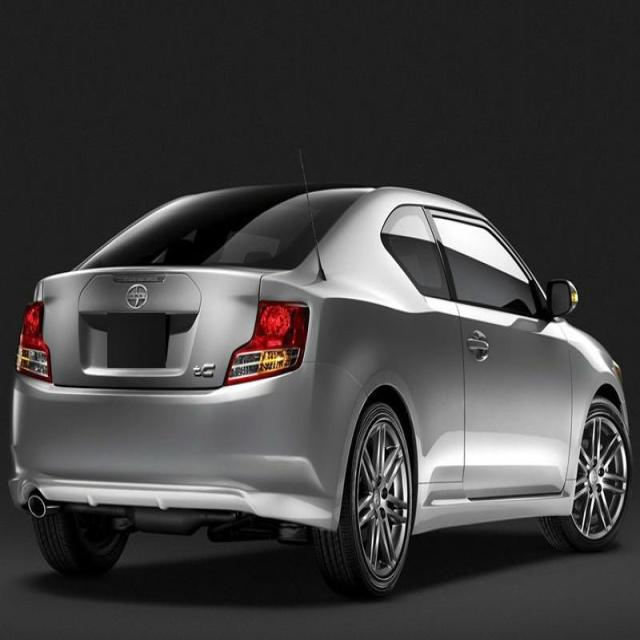back_glass: (74, 186, 376, 272)
back_left_side_light: (14, 298, 53, 384)
back_right_side_light: (224, 296, 311, 387)
front_right_side_door: (423, 203, 573, 501)
front_right_side_mirror: (544, 275, 578, 322)
rear_bumper: (9, 358, 362, 530)
wheel: (330, 404, 414, 595), (550, 398, 632, 548), (33, 510, 134, 578)
